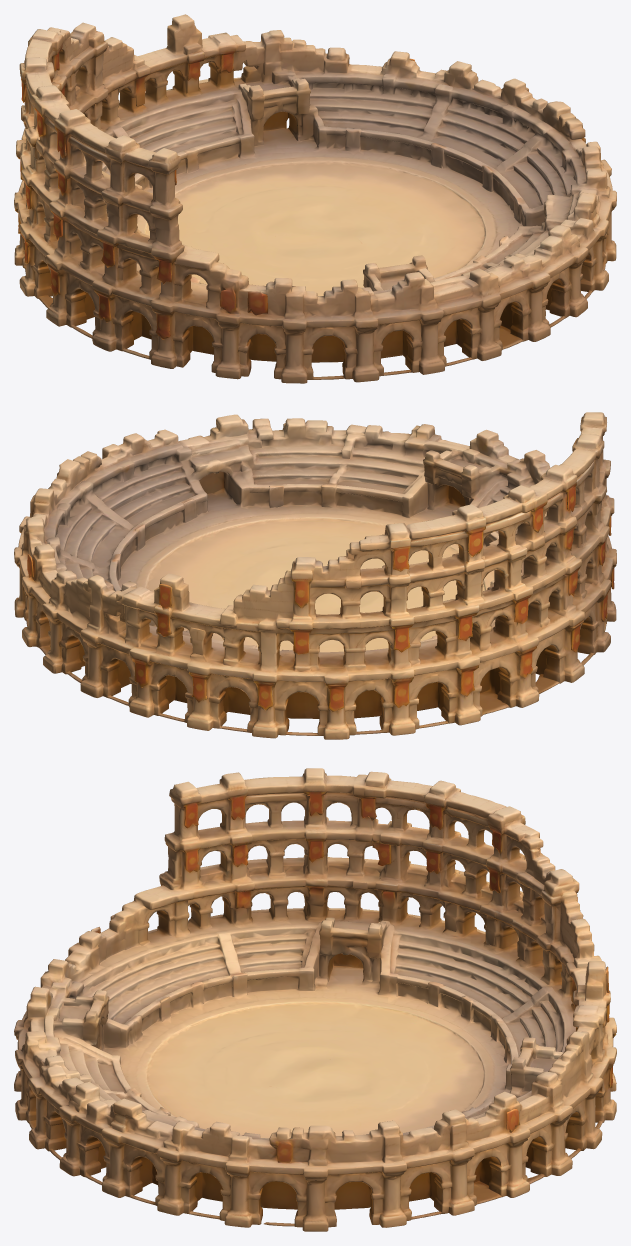
File: colosseum-tripo-v01-source.glb
The picture shows the model from 3 angles, top to bottom: view 1: azimuth 30°, elevation 25°; view 2: azimuth 150°, elevation 25°; view 3: azimuth 270°, elevation 25°; orthographic projection.
Visible parts, largest first — view 1: tripo_node_7a28768b-03bb-44b5-8929-bf812fc0c76d; view 2: tripo_node_7a28768b-03bb-44b5-8929-bf812fc0c76d; view 3: tripo_node_7a28768b-03bb-44b5-8929-bf812fc0c76d.
Boxes of the visible parts, x1=… form: tripo_node_7a28768b-03bb-44b5-8929-bf812fc0c76d: x1=14, y1=14, x2=616, y2=383; tripo_node_7a28768b-03bb-44b5-8929-bf812fc0c76d: x1=14, y1=412, x2=616, y2=739; tripo_node_7a28768b-03bb-44b5-8929-bf812fc0c76d: x1=14, y1=768, x2=616, y2=1231.
Size of the model in its own units: 1 by 0.3701 by 0.9702.
1 material, 1 textured.
